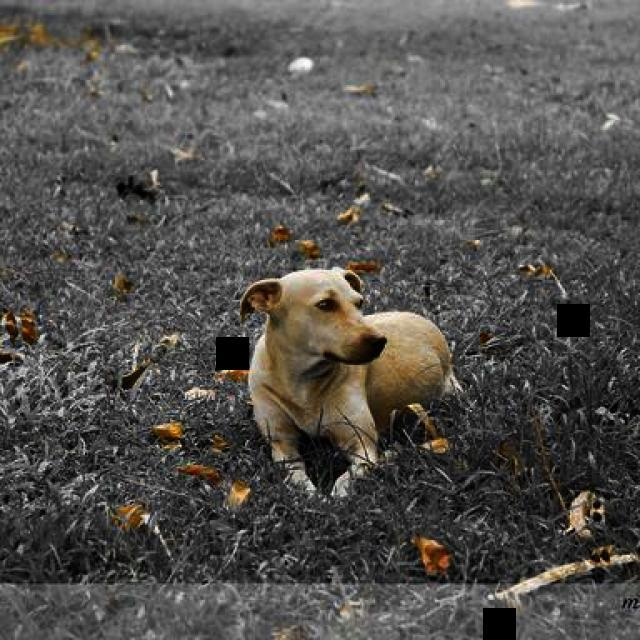adult_dog: (240, 269, 461, 500)
